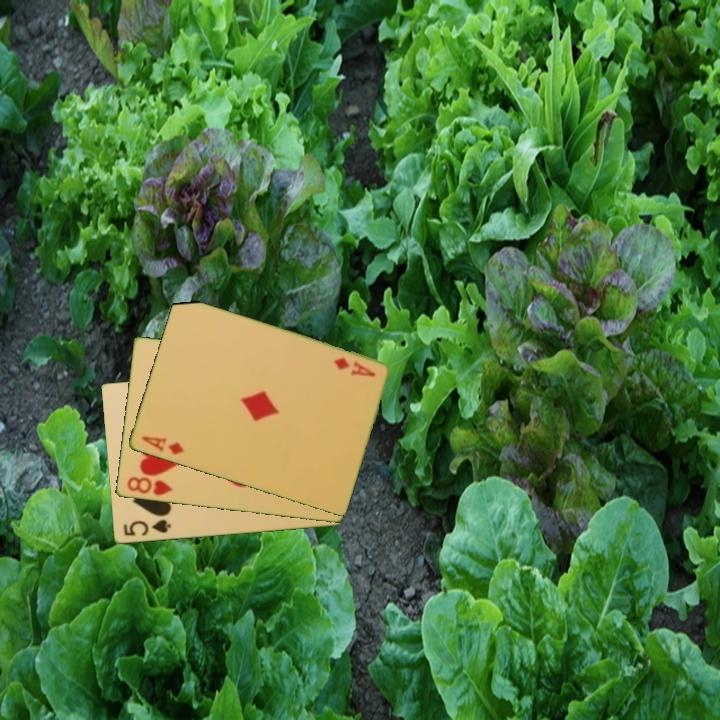5s: (120, 516, 174, 539)
8h: (123, 474, 175, 498)
Ad: (330, 354, 378, 380), (138, 433, 186, 458)
